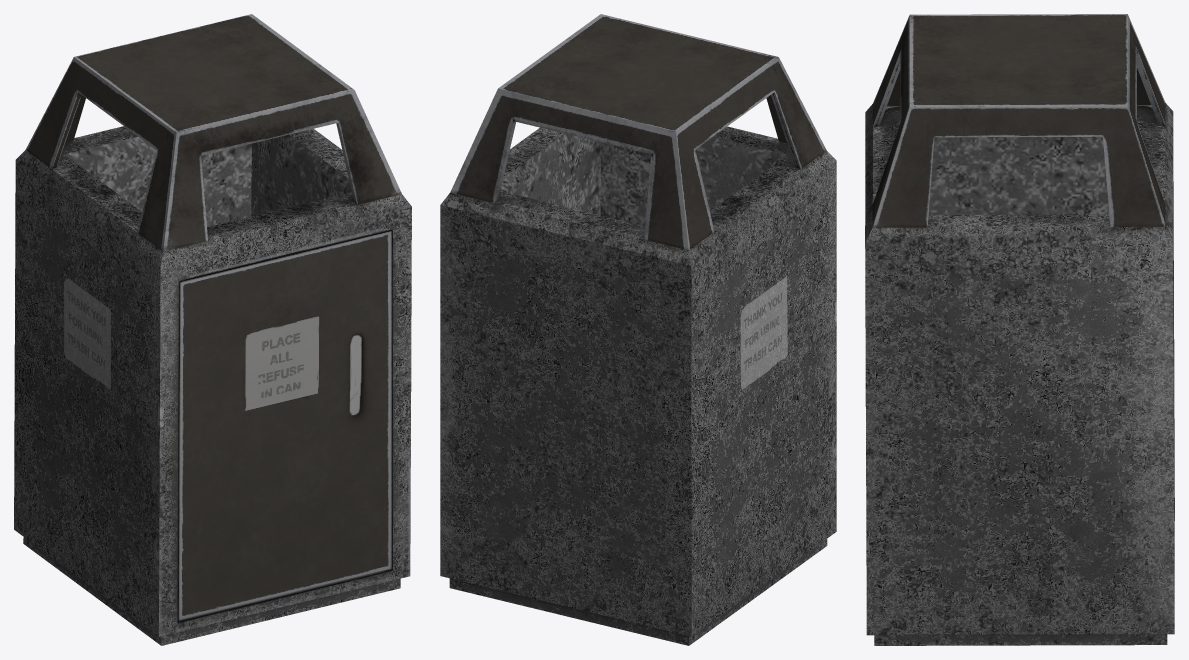
3 views of the same model, side by side, from view 1: azimuth 30°, elevation 25°; view 2: azimuth 150°, elevation 25°; view 3: azimuth 270°, elevation 25° (orthographic). The views are drawn at different scales.
Visible parts, largest first — view 1: o_trash_parking_l; view 2: o_trash_parking_l; view 3: o_trash_parking_l.
Boxes of the visible parts, x1,y1,x2,y2 form: o_trash_parking_l: (14, 14, 411, 645); o_trash_parking_l: (440, 14, 836, 645); o_trash_parking_l: (865, 14, 1174, 645).
Bounding box in the file's own units: 1.07 × 2 × 1.07.
